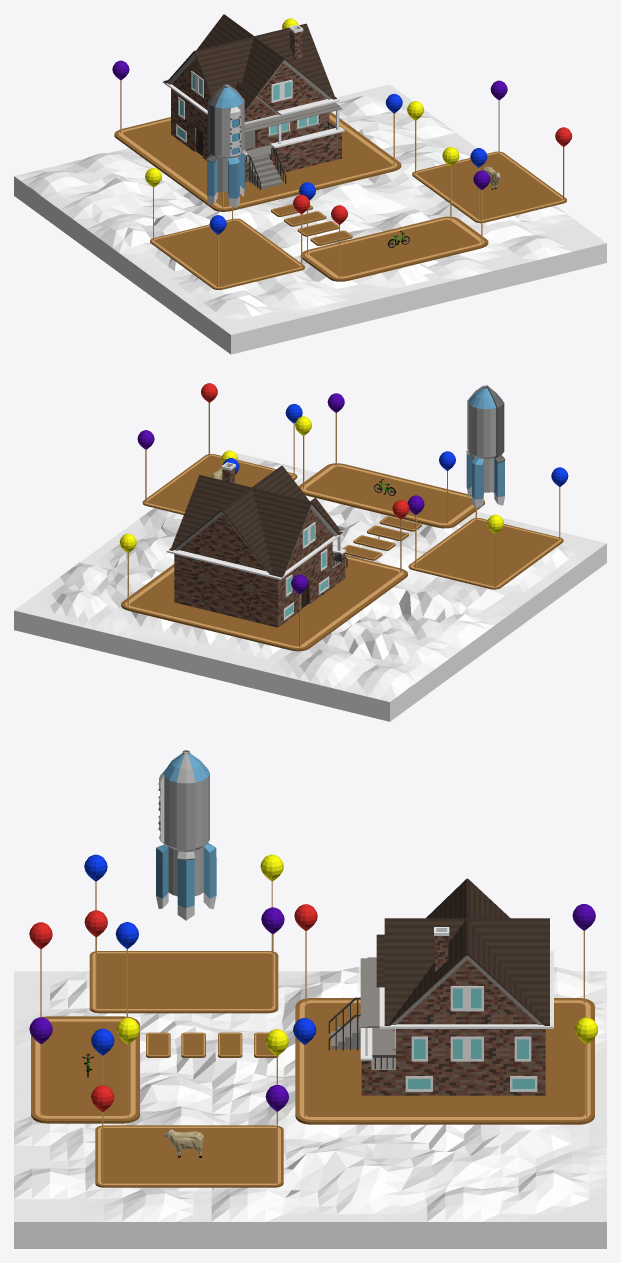
3 views of the same model, one above another, from view 1: azimuth 30°, elevation 25°; view 2: azimuth 150°, elevation 25°; view 3: azimuth 270°, elevation 25° (orthographic). The views are drawn at different scales.
Parts seen in each view (by area): view 1: Cube.013, Cube.117, OBJRANDOM_ROCKETSHIP; view 2: Cube.013, Cube.117, OBJRANDOM_ROCKETSHIP; view 3: Cube.013, Cube.117, OBJRANDOM_ROCKETSHIP, ANIMAL_OVEJA.
Boxes of the visible parts, x1,y1,x2,y2 form: Cube.013: (14,18,606,354); Cube.117: (162,14,344,190); OBJRANDOM_ROCKETSHIP: (206,84,245,207); Cube.013: (14,383,606,721); Cube.117: (166,462,347,627); OBJRANDOM_ROCKETSHIP: (466,385,505,508); Cube.013: (14,854,606,1248); Cube.117: (328,878,553,1095); OBJRANDOM_ROCKETSHIP: (156,750,216,920); ANIMAL_OVEJA: (164,1129,204,1157).
Size of the model in its own units: 4000 by 2202 by 4000.
Materials: 39 (2 with a texture image).
